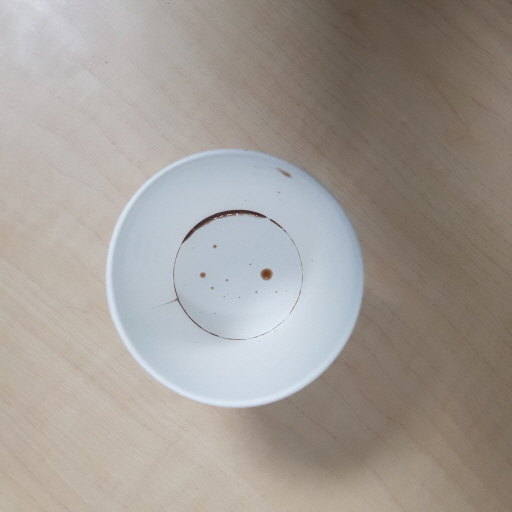Paper_1: (105, 144, 368, 407)
